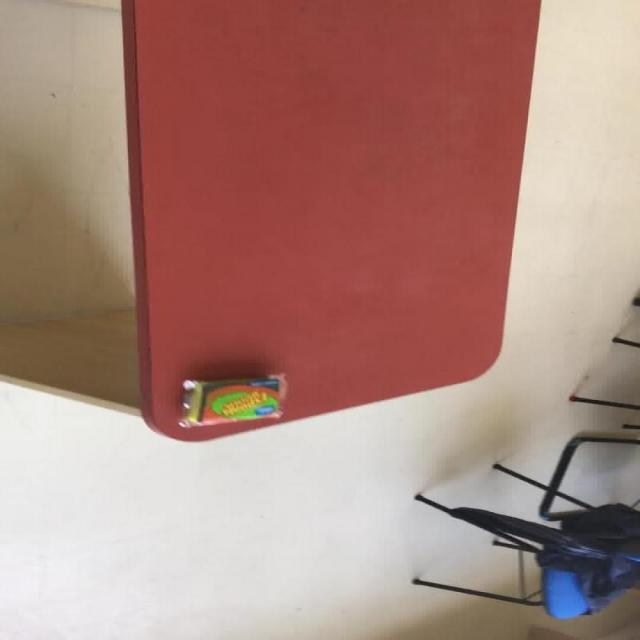Sponge: (181, 376, 284, 426)
